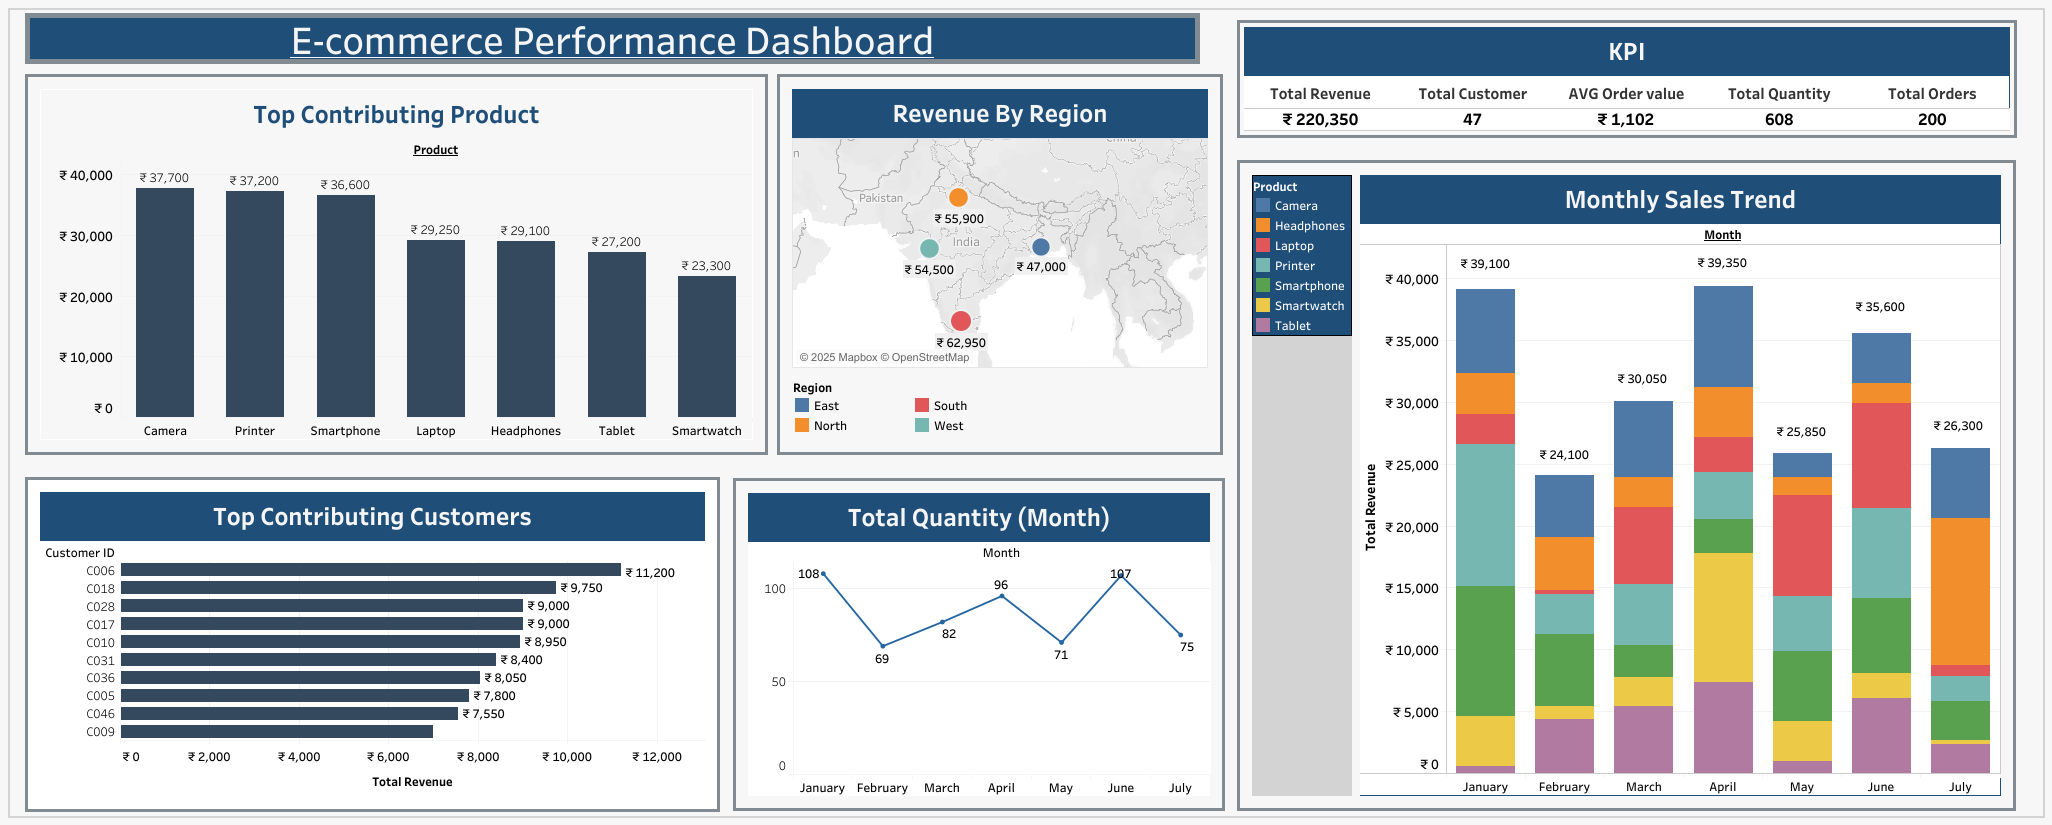

The page's visual inventory and layout, read from the dashboard file:
{"tool":"tableau","page":{"name":"Dashboard 1 (2)","canvas":[1000,1000],"units":"permille","ordinal":0},"visuals":[{"type":"text","box":[12.3,15.6,572.3,61.4]},{"type":"worksheet","title":"Sheet 10","mark":"Automatic","box":[604.5,27.7,376.2,136]},{"type":"worksheet","title":"Sheet 2","mark":"Automatic","rows":["Revenue"],"cols":["Product"],"box":[18.7,102.3,348.7,435.6]},{"type":"worksheet","title":"Sheet 13","mark":"Automatic","rows":["Calculation_1931199857898373120"],"cols":["Calculation_1931199857898766337"],"box":[385,102.3,204.2,349]},{"type":"legend","title":"Sheet 6","param":"[federated.1kj5x6c0f5269h1e9vkzt1n8dgtw].[none:Product:nk]","box":[609.1,207,63.2,761.7]},{"type":"worksheet","title":"Sheet 6","mark":"Automatic","rows":["Revenue","Revenue"],"cols":["Month"],"box":[672.3,207,303.1,761.7]},{"type":"legend","title":"Sheet 13","param":"[federated.1kj5x6c0f5269h1e9vkzt1n8dgtw].[none:Region:nk]","box":[385,451.2,204.2,86.7]},{"type":"worksheet","title":"Sheet 8","mark":"Automatic","rows":["CustomerID"],"cols":["Revenue"],"box":[18.7,590.9,325.3,379.1]},{"type":"worksheet","title":"Sheet 14","mark":"Line","rows":["Quantity"],"cols":["Month"],"box":[363.4,592.1,227,376.7]}]}

Visuals, with their boxes on the dashboard's canvas, which has no fixed pixel size, in thousandths of its width and height (x1, y1, x2, y2). These are canvas units, not pixel positions in the 2052x825 screenshot, which may show the page scaled, cropped or inside an application window:
text: bbox(12, 16, 585, 77)
"Sheet 10" worksheet: bbox(604, 28, 981, 164)
"Sheet 2" worksheet: bbox(19, 102, 367, 538)
"Sheet 13" worksheet: bbox(385, 102, 589, 451)
"Sheet 6" legend: bbox(609, 207, 672, 969)
"Sheet 6" worksheet: bbox(672, 207, 975, 969)
"Sheet 13" legend: bbox(385, 451, 589, 538)
"Sheet 8" worksheet: bbox(19, 591, 344, 970)
"Sheet 14" worksheet (Line marks): bbox(363, 592, 590, 969)
